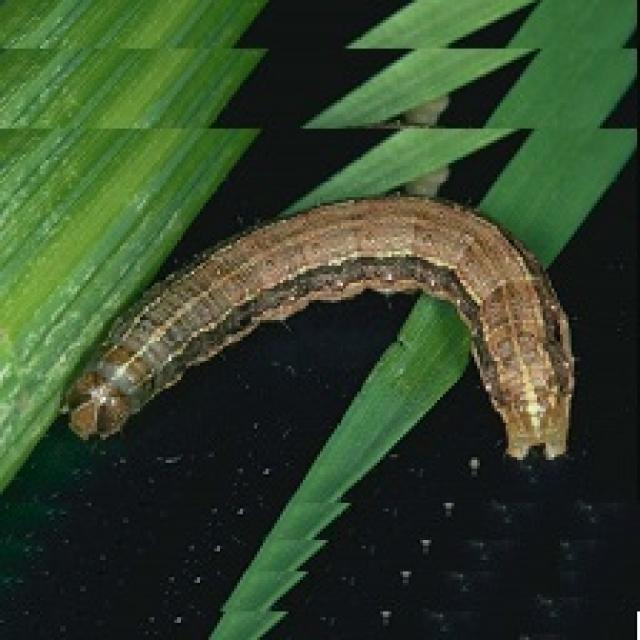worm: (58, 189, 578, 464)
